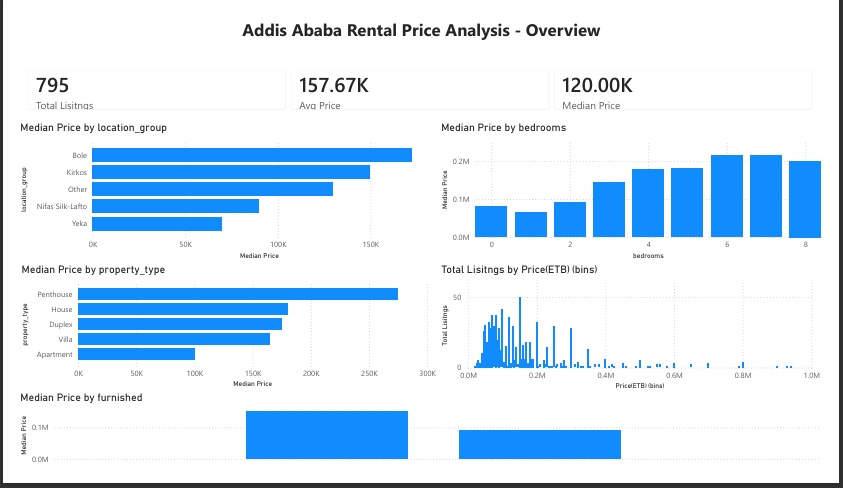

Layout of this report page (visuals, bound fields, positions):
{"tool":"powerbi","page":{"name":"Page 1","canvas":[1280,720],"ordinal":0},"visuals":[{"type":"cardVisual","fields":{"Data":["clean_listings (2).Total Lisitngs","clean_listings (2).Avg Price","clean_listings (2).Median Price"]},"box":[0,73.4,1279.1,96.3],"z":0},{"type":"clusteredBarChart","fields":{"Category":["clean_listings (2).location_group"],"Y":["clean_listings (2).Median Price"]},"box":[0,169.6,667.1,224.6],"z":1000},{"type":"clusteredBarChart","fields":{"Category":["clean_listings (2).property_type"],"Y":["clean_listings (2).Median Price"]},"box":[2.3,394.3,667.1,204],"z":2000},{"type":"clusteredColumnChart","fields":{"Category":["clean_listings (2).bedrooms"],"Y":["clean_listings (2).Median Price"]},"box":[667.1,169.6,612,224.6],"z":3000},{"type":"clusteredColumnChart","fields":{"Category":["clean_listings (2).Price(ETB) (bins)"],"Y":["clean_listings (2).Total Lisitngs"]},"box":[667.1,394.3,612,206.3],"z":4000},{"type":"clusteredColumnChart","fields":{"Category":["clean_listings (2).furnished"],"Y":["clean_listings (2).Median Price"]},"box":[0,598.3,1279.1,121.5],"z":5000},{"type":"textbox","box":[2.3,0,1276.8,73.4],"z":5001}]}

Visuals, with their boxes in screenshot pixels (x1, y1, x2, y2), scaled from the page's 1280x720 canvas onto the 843x488 screenshot:
cardVisual - clean_listings (2).Total Lisitngs x clean_listings (2).Avg Price: pyautogui.locateOnScreen(0, 50, 842, 115)
clusteredBarChart - clean_listings (2).location_group x clean_listings (2).Median Price: pyautogui.locateOnScreen(0, 115, 439, 267)
clusteredBarChart - clean_listings (2).property_type x clean_listings (2).Median Price: pyautogui.locateOnScreen(2, 267, 441, 406)
clusteredColumnChart - clean_listings (2).bedrooms x clean_listings (2).Median Price: pyautogui.locateOnScreen(439, 115, 842, 267)
clusteredColumnChart - clean_listings (2).Price(ETB) (bins) x clean_listings (2).Total Lisitngs: pyautogui.locateOnScreen(439, 267, 842, 407)
clusteredColumnChart - clean_listings (2).furnished x clean_listings (2).Median Price: pyautogui.locateOnScreen(0, 406, 842, 487)
textbox: pyautogui.locateOnScreen(2, 0, 842, 50)
